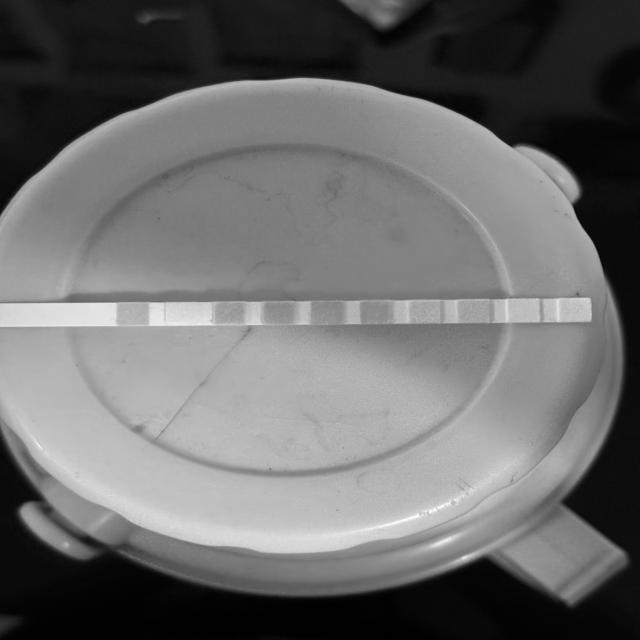Bilirubin: (167, 304, 196, 324)
Blood: (313, 302, 341, 324)
Glucose: (118, 303, 148, 325)
Ketone: (214, 303, 245, 324)
Leukocytes: (560, 298, 590, 322)
Nitrite: (509, 300, 538, 322)
Protein: (409, 301, 439, 323)
SpGravity: (264, 303, 294, 324)
Urobilinogen: (459, 301, 488, 322)
background: (0, 0, 640, 640)
pH: (362, 302, 390, 324)
strip: (1, 298, 593, 327)
